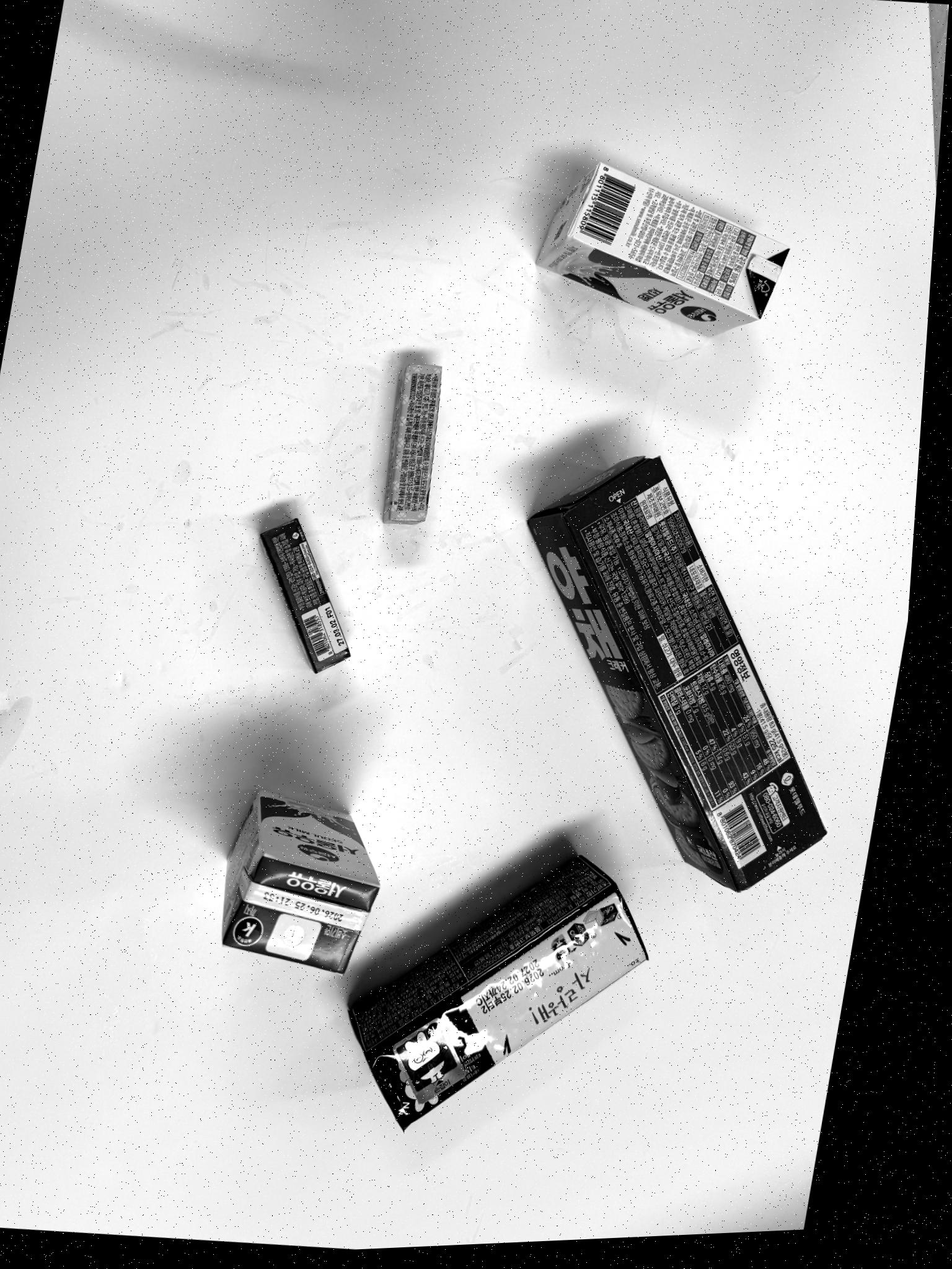cracker_ace: (340, 855, 646, 1130)
cracker_vege: (521, 456, 828, 894)
gum_green: (259, 511, 351, 677)
gum_yellow: (379, 360, 440, 525)
milk_blue: (534, 158, 792, 344)
milk_green: (220, 791, 380, 976)
